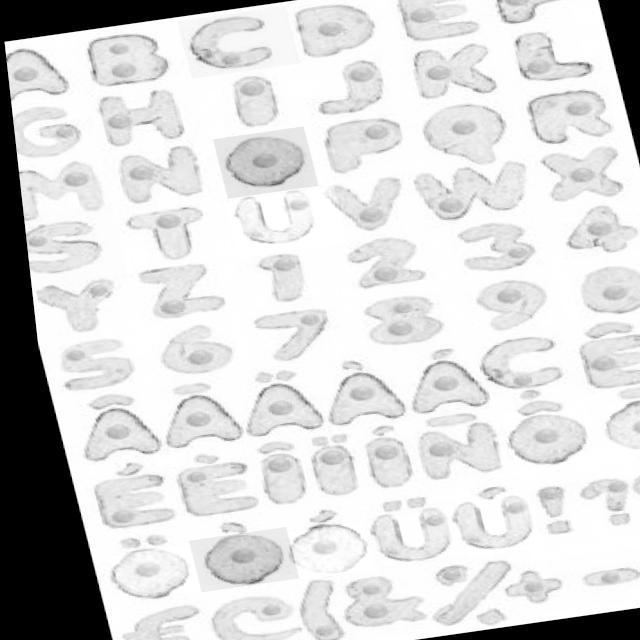2: (342, 239, 433, 292)
6: (161, 324, 238, 382)
7: (255, 305, 328, 367)
H: (92, 88, 198, 146)
I: (221, 75, 287, 128)
Q: (421, 103, 515, 167)
Z: (133, 259, 228, 323)
